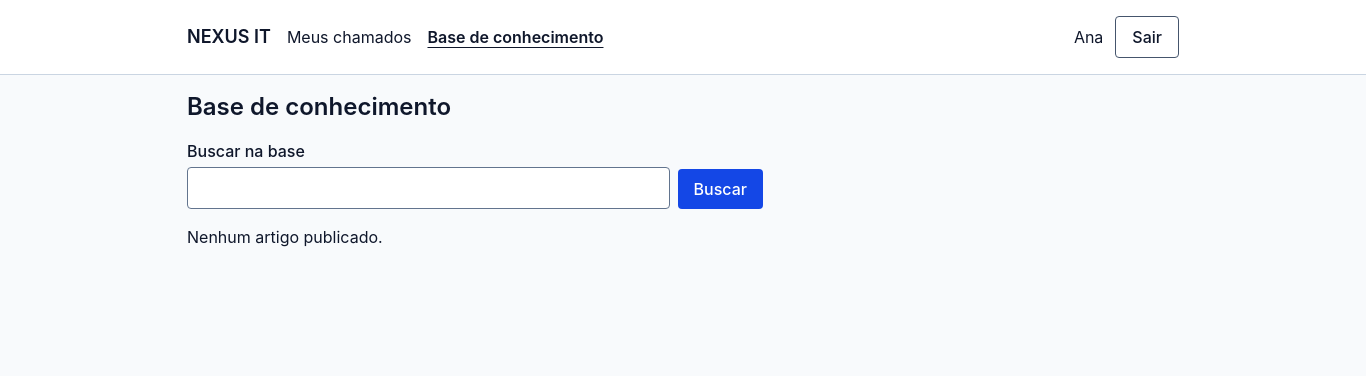
Scenario: aviso do modo da busca (FR-13) › busca vetorial: diz que é semântica e não avisa de degradação
Type "impressora" into the search field labelled "Buscar na base" at (428, 188), box [187,167,670,209]
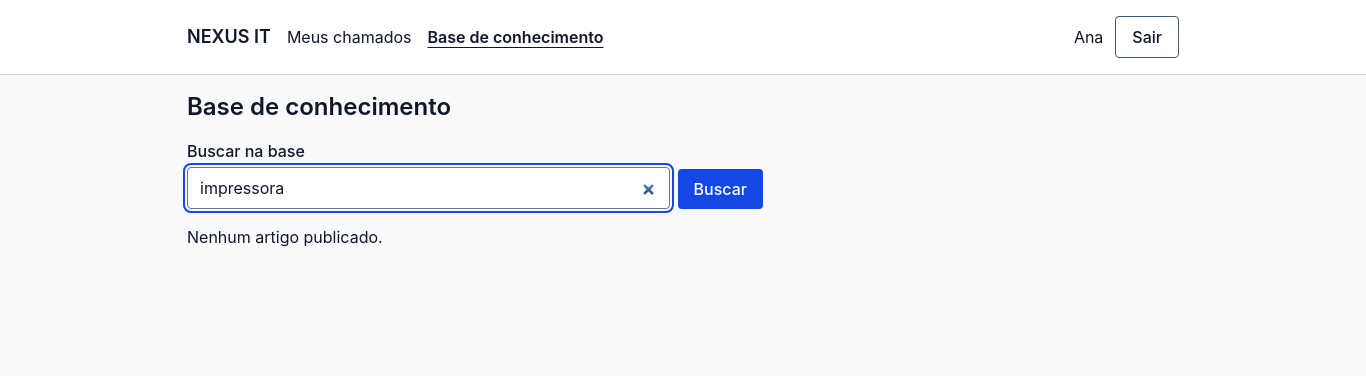
Click the button "Buscar" at (720, 189), box [678,169,763,209]
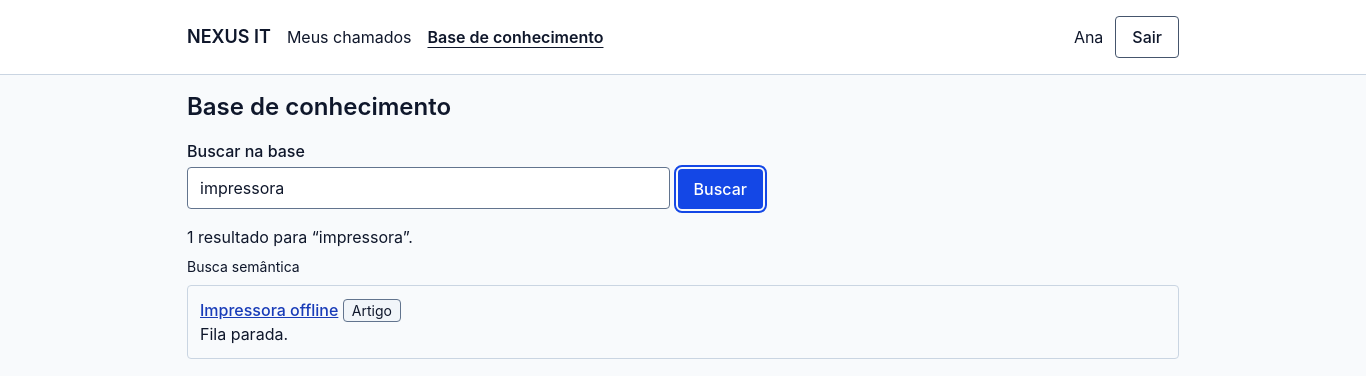
Now the link "Impressora offline" is shown, box [200,300,338,320]
Now the text "Busca semântica" is shown, box [187,258,300,275]
